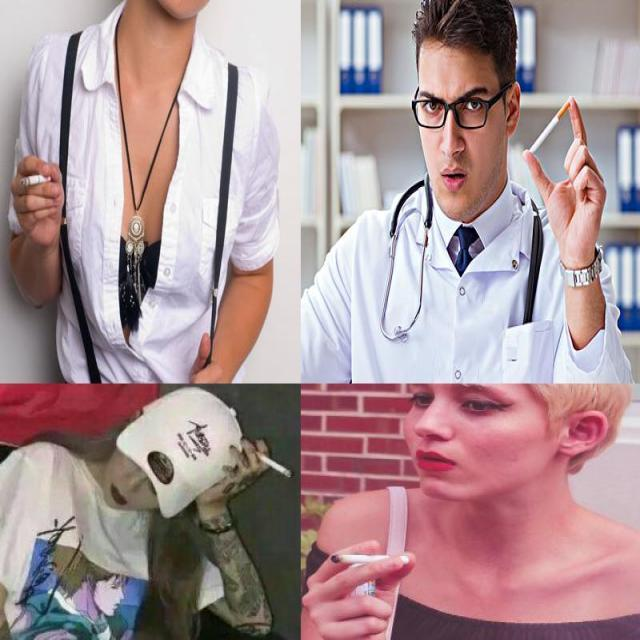cigarette: (528, 96, 574, 154), (252, 448, 294, 479), (330, 554, 410, 566), (18, 174, 52, 188)
